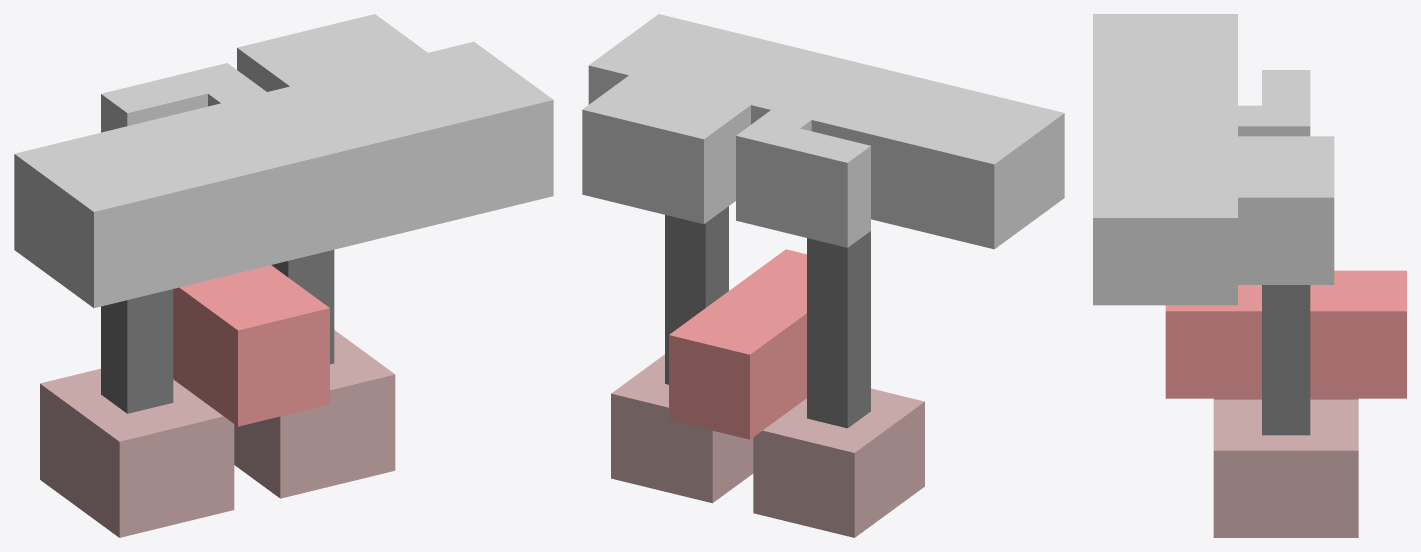
Rendered from board.glb.
3 renders of one model, left to right at view 1: azimuth 30°, elevation 25°; view 2: azimuth 150°, elevation 25°; view 3: azimuth 270°, elevation 25°, orthographic. The views are drawn at different scales.
Visible parts, largest first — view 1: Copper_Net3_Contour0 (×3), Copper_Net2_Contour0 (×3), Copper_Net1_Contour0; view 2: Copper_Net3_Contour0 (×3), Copper_Net2_Contour0 (×3), Copper_Net1_Contour0; view 3: Copper_Net3_Contour0, Copper_Net2_Contour0 (×3), Copper_Net1_Contour0.
Part boxes in pixels (x1,y1,x2,y2): Copper_Net3_Contour0 (×3): (14, 41, 553, 537); Copper_Net2_Contour0 (×3): (234, 14, 427, 498); Copper_Net1_Contour0: (173, 265, 329, 426); Copper_Net3_Contour0 (×3): (588, 14, 1064, 537); Copper_Net2_Contour0 (×3): (582, 75, 753, 503); Copper_Net1_Contour0: (669, 249, 806, 439); Copper_Net3_Contour0: (1093, 14, 1310, 305); Copper_Net2_Contour0 (×3): (1213, 136, 1358, 537); Copper_Net1_Contour0: (1165, 270, 1406, 398).
Bounding box in the file's own units: 2e-06 × 1.65e-06 × 1.3e-06.
